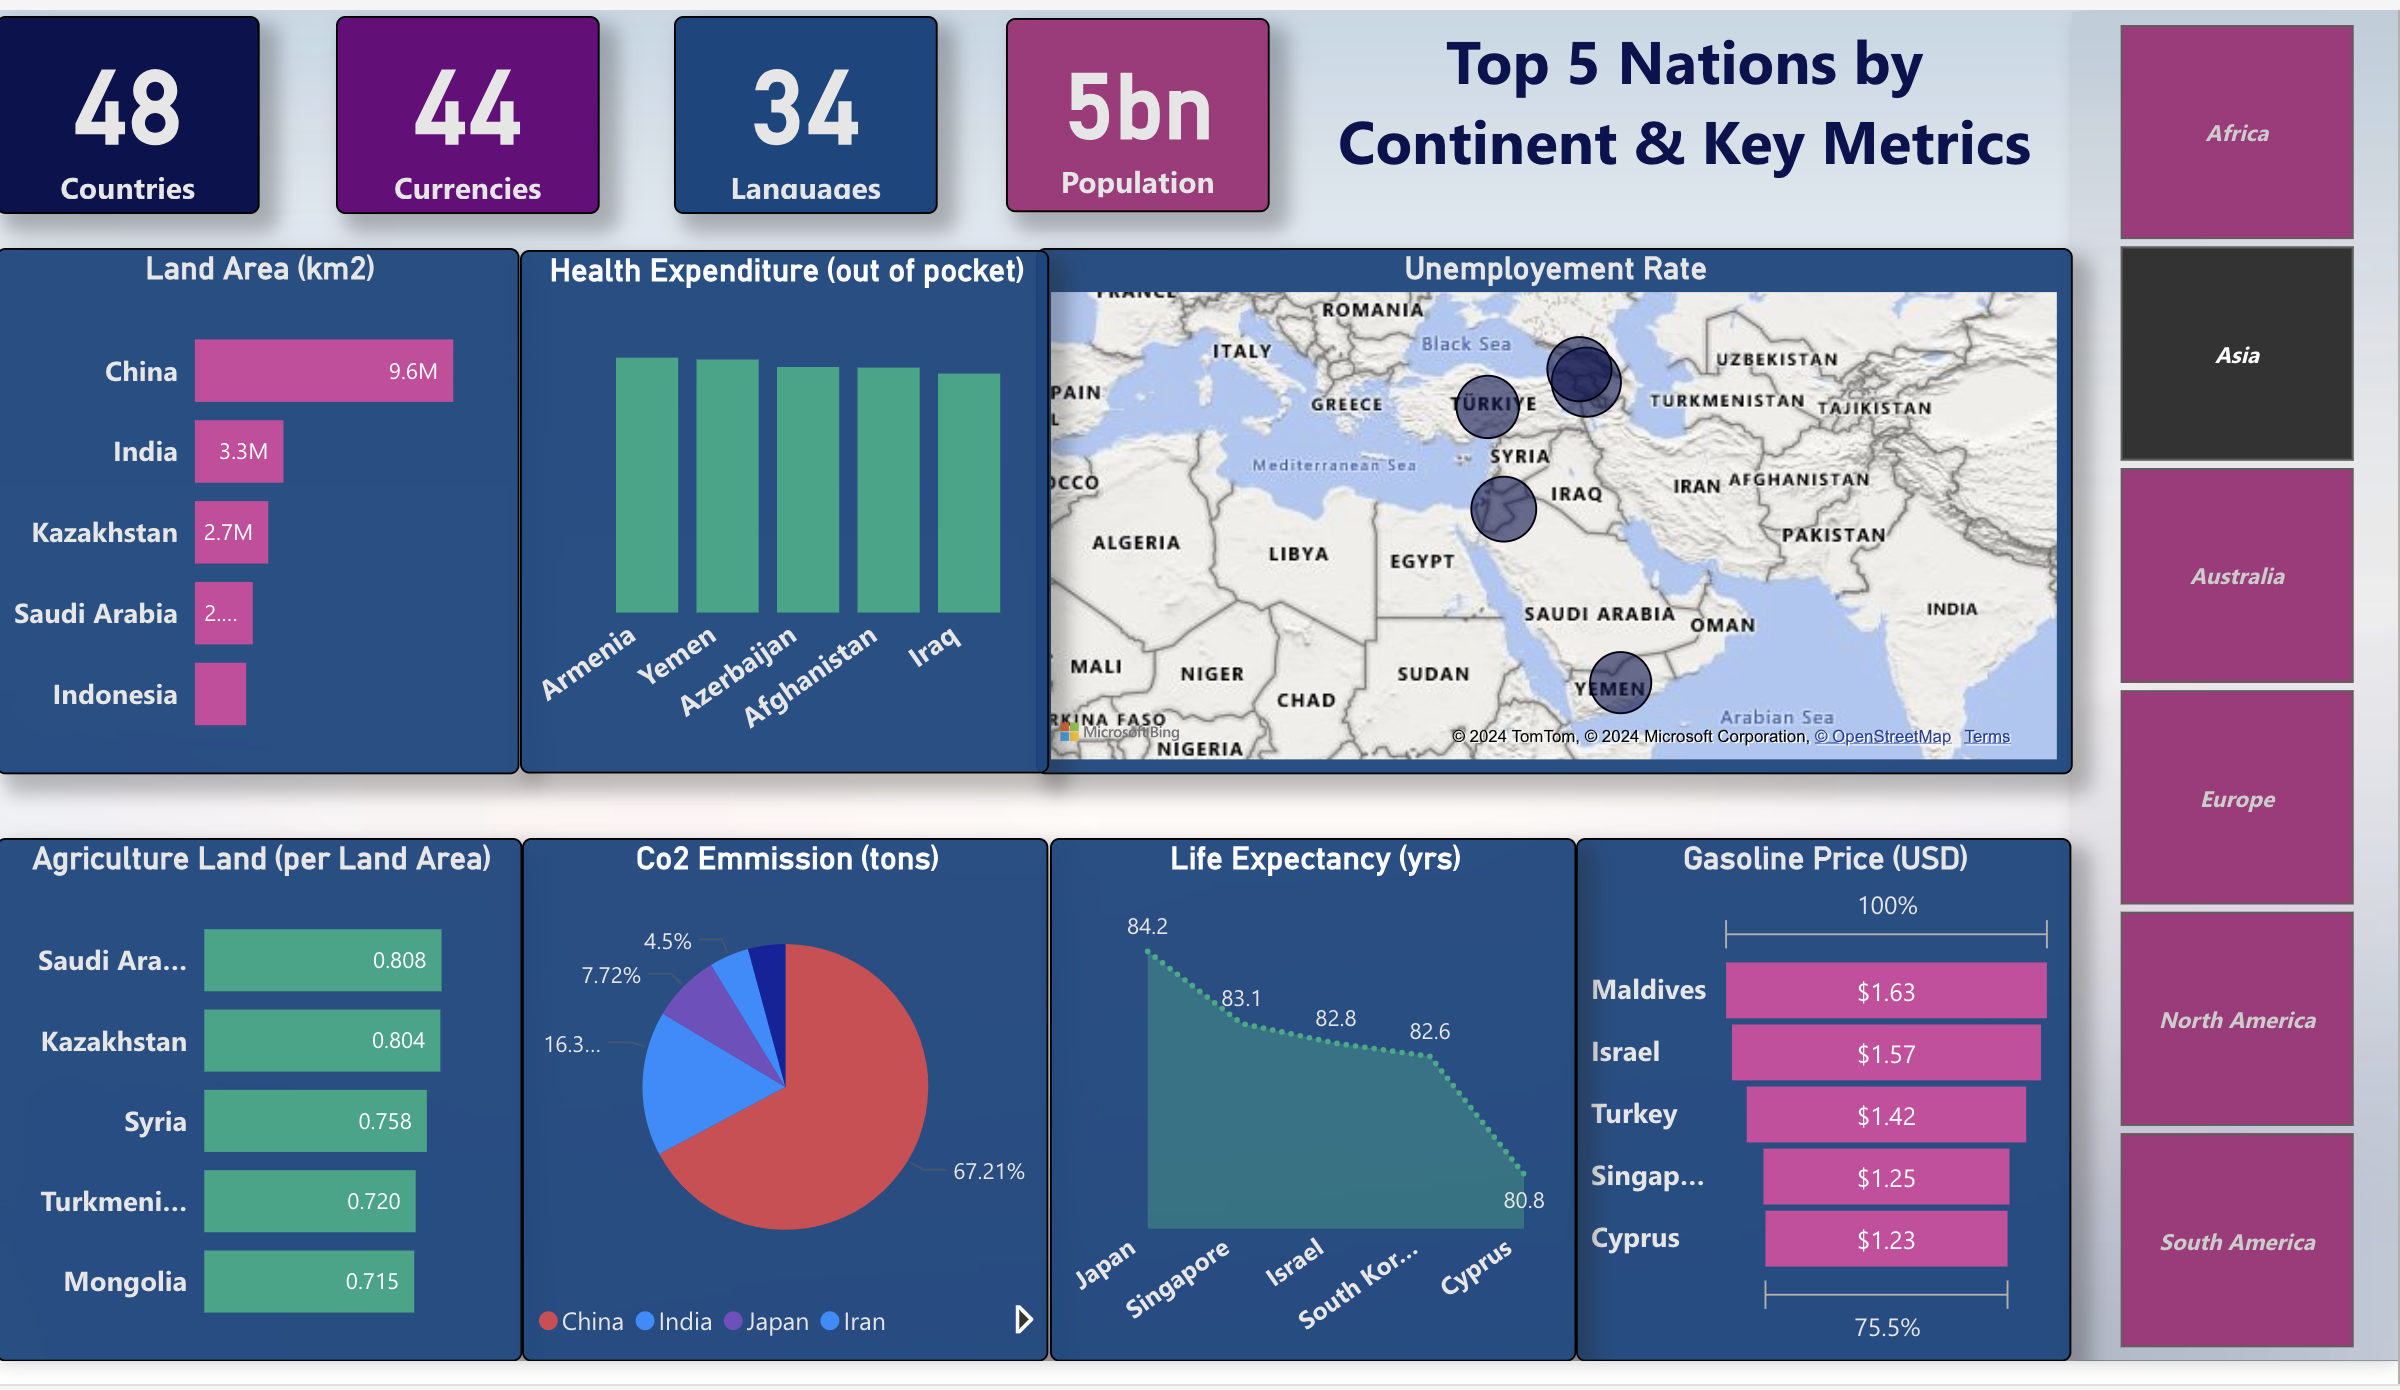

This screenshot's page, from the dashboard's own definition file:
{"tool":"powerbi","page":{"name":"Page 1","canvas":[1280,720],"ordinal":0},"visuals":[{"type":"barChart","title":"Land Area (km2)","fields":{"Category":["world-data-2023 4.Country"],"Y":["Sum(world-data-2023 4.Land Area(Km2))"]},"box":[0,126.6,279.2,280.7],"z":0},{"type":"clusteredBarChart","title":"Agriculture Land (per Land Area)","fields":{"Category":["world-data-2023 4.Country"],"Y":["Sum(world-data-2023 4.Agricultural Land( %))"]},"box":[0,440.9,280.7,279.2],"z":1000},{"type":"map","title":"Unemployement Rate","fields":{"Category":["world-data-2023 4.Country"],"Size":["Sum(world-data-2023 4.Unemployment rate)"]},"box":[553.8,126.6,552.3,280.7],"z":2000},{"type":"pieChart","title":"Co2 Emmission (tons)","fields":{"Category":["world-data-2023 4.Country"],"Y":["Sum(world-data-2023 4.Co2-Emissions)"]},"box":[280.7,440.9,280.7,279.2],"z":3000},{"type":"funnel","title":"Gasoline Price (USD)","fields":{"Category":["world-data-2023 4.Country"],"Y":["Sum(world-data-2023 4.Gasoline Price)"]},"box":[842.1,440.9,263.9,279.2],"z":4000},{"type":"areaChart","title":"Life Expectancy (yrs)","fields":{"Category":["world-data-2023 4.Country"],"Y":["Sum(world-data-2023 4.Life expectancy)"]},"box":[561.4,440.9,280.7,279.2],"z":5000},{"type":"lineStackedColumnComboChart","title":"Health Expenditure (out of pocket)","fields":{"Category":["world-data-2023 4.Country"],"Y":["Sum(world-data-2023 4.Out of pocket health expenditure)"]},"box":[279.2,128.2,282.2,279.2],"z":7000},{"type":"slicer","fields":{"Values":["world-data-2023 4.Continents"]},"box":[1106.1,1.5,173.9,718.6],"z":8000},{"type":"card","fields":{"Values":["Count(world-data-2023 4.Country)"]},"box":[0,3.1,140.4,105.3],"z":9000},{"type":"card","fields":{"Values":["Count(world-data-2023 4.Currency-Code)"]},"box":[181.5,3.1,140.4,105.3],"z":10000},{"type":"card","fields":{"Values":["Count(world-data-2023 4.Official language)"]},"box":[361.6,3.1,140.4,105.3],"z":11000},{"type":"card","fields":{"Values":["Sum(world-data-2023 4.Population)"]},"box":[538.5,4.6,140.4,103.7],"z":12000},{"type":"textbox","box":[694.2,0,411.9,126.6],"z":13000}]}

Visuals, with their boxes in screenshot pixels (x1, y1, x2, y2), scaled from the page's 1280x720 canvas onto the 2400x1390 screenshot:
"Land Area (km2)" barChart: BBox(0, 244, 524, 786)
"Agriculture Land (per Land Area)" clusteredBarChart: BBox(0, 851, 526, 1389)
"Unemployement Rate" map: BBox(1038, 244, 2074, 786)
"Co2 Emmission (tons)" pieChart: BBox(526, 851, 1053, 1389)
"Gasoline Price (USD)" funnel: BBox(1579, 851, 2074, 1389)
"Life Expectancy (yrs)" areaChart: BBox(1053, 851, 1579, 1389)
"Health Expenditure (out of pocket)" lineStackedColumnComboChart: BBox(524, 247, 1053, 787)
slicer - world-data-2023 4.Continents: BBox(2074, 3, 2399, 1389)
card - Count(world-data-2023 4.Country): BBox(0, 6, 263, 209)
card - Count(world-data-2023 4.Currency-Code): BBox(340, 6, 604, 209)
card - Count(world-data-2023 4.Official language): BBox(678, 6, 941, 209)
card - Sum(world-data-2023 4.Population): BBox(1010, 9, 1273, 209)
textbox: BBox(1302, 0, 2074, 244)
